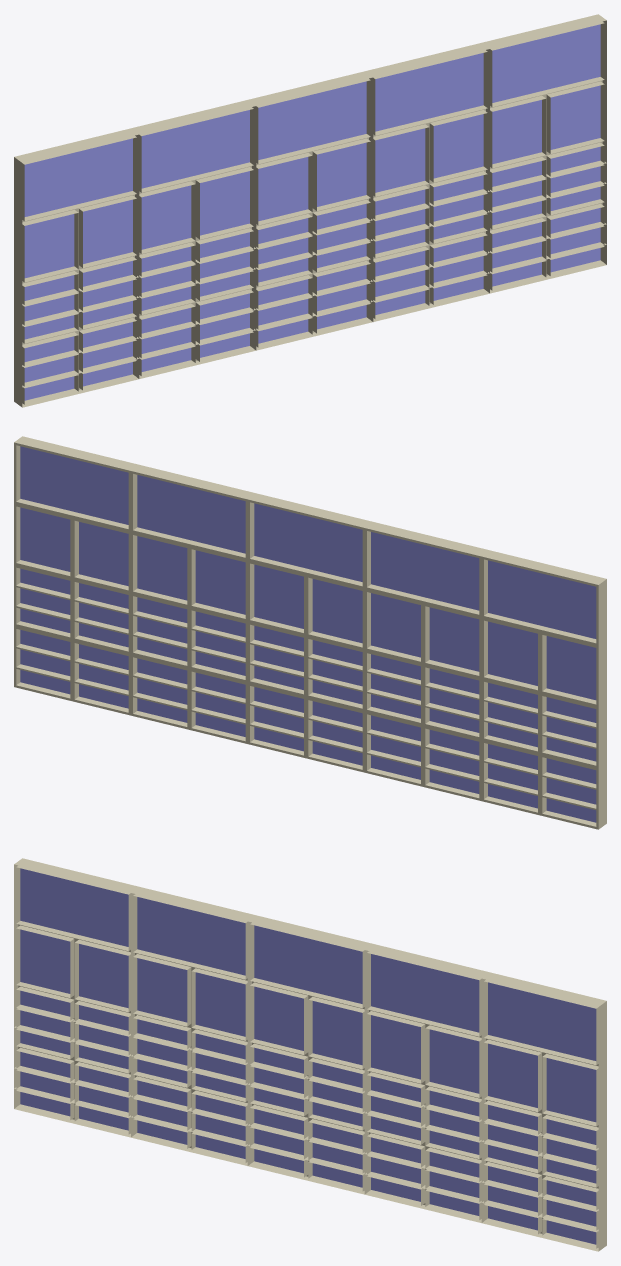
File: Elementary_Window_1.fbx
3 renders of one model, top to bottom at view 1: azimuth 30°, elevation 25°; view 2: azimuth 150°, elevation 25°; view 3: azimuth 330°, elevation 25°, orthographic.
Visible parts, largest first — view 1: WindowPanes, WindowHole.005; view 2: WindowPanes, WindowHole.005; view 3: WindowPanes, WindowHole.005.
Boxes of the visible parts, x1,y1,x2,y2 form: WindowPanes: (24, 24, 600, 400); WindowHole.005: (14, 14, 606, 407); WindowPanes: (20, 446, 596, 822); WindowHole.005: (14, 436, 606, 829); WindowPanes: (20, 868, 596, 1244); WindowHole.005: (14, 858, 606, 1251).
Bounding box in the file's own units: 400 × 160 × 10.
Materials: 2 (1 with a texture image).
